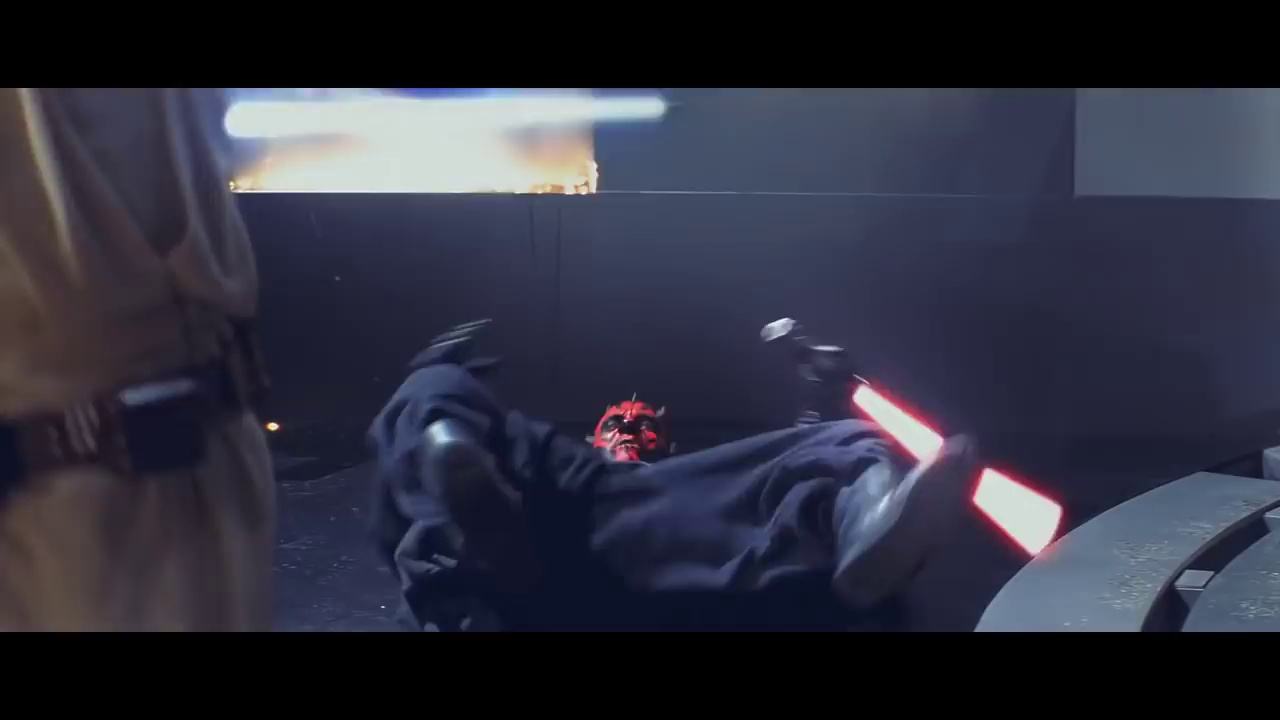lightsaber: (771, 320, 1070, 556)
